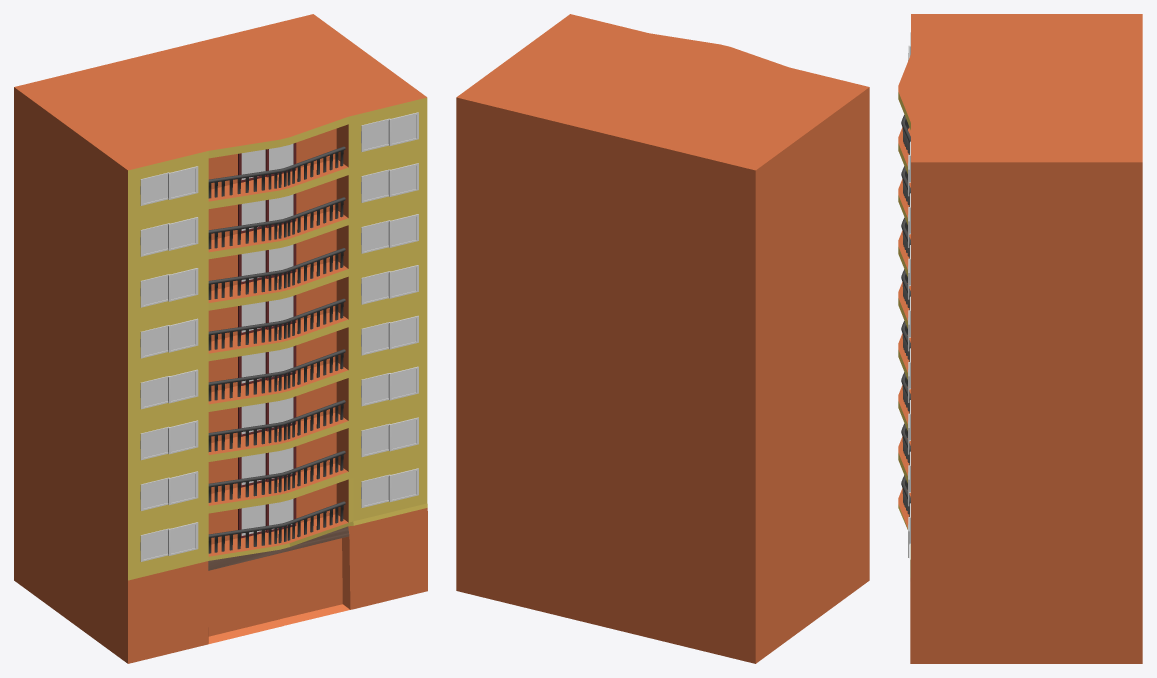
File: prédioVariante4.fbx
The picture shows the model from 3 angles, left to right: view 1: azimuth 30°, elevation 25°; view 2: azimuth 150°, elevation 25°; view 3: azimuth 270°, elevation 25°; orthographic projection.
Visible parts, largest first — view 1: Cube.001, varanda.001, varanda.003, varanda.004, varanda.002; view 2: Cube.001; view 3: Cube.001, varanda.001, varanda.004.
Part boxes in pixels (x1,y1,x2,y2): Cube.001: (14,14,427,663); varanda.001: (208,146,345,553); varanda.003: (140,166,198,561); varanda.004: (361,112,418,507); varanda.002: (238,143,296,538); Cube.001: (456,14,869,663); Cube.001: (898,14,1142,663); varanda.001: (901,115,910,516); varanda.004: (908,141,910,557).
Bounding box in the file's own units: 2515 × 3961 × 1751.
